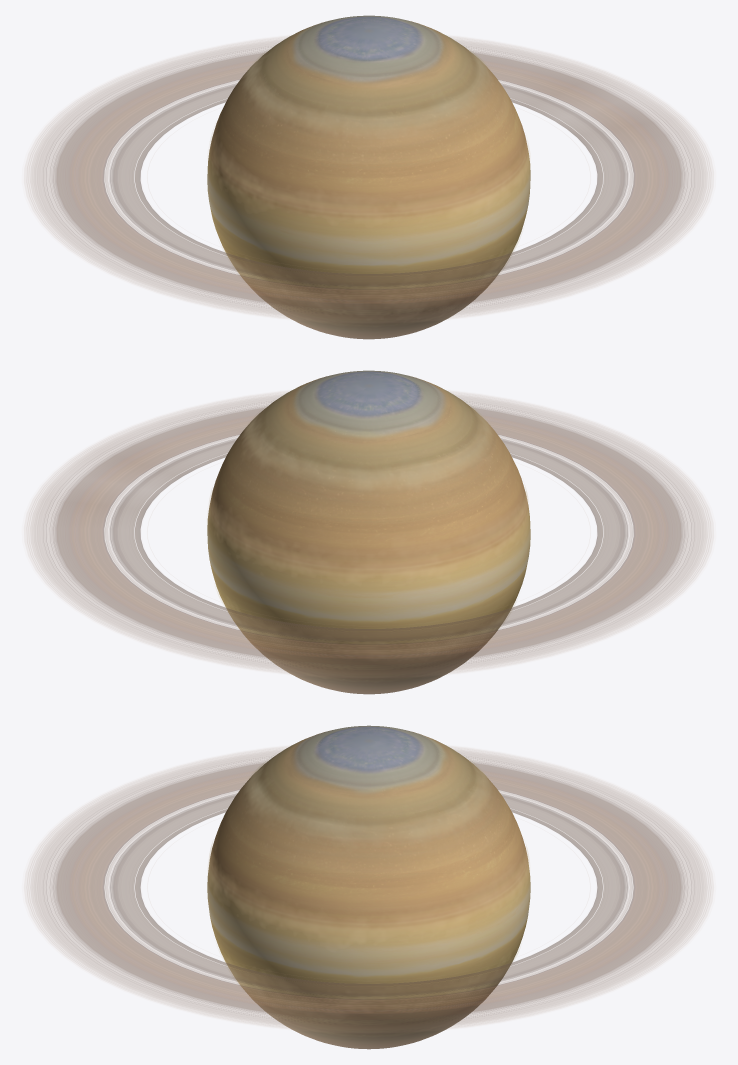
Rendered from Saturn.gltf.
The picture shows the model from 3 angles, top to bottom: view 1: azimuth 30°, elevation 25°; view 2: azimuth 150°, elevation 25°; view 3: azimuth 270°, elevation 25°; orthographic projection.
Parts seen in each view (by area): view 1: Saturn_Globe_Opaque, Rings, Saturn_Clouds; view 2: Saturn_Globe_Opaque, Rings, Saturn_Clouds; view 3: Saturn_Globe_Opaque, Rings, Saturn_Clouds.
Boxes of the visible parts, x1,y1,x2,y2 form: Saturn_Globe_Opaque: (207,15,530,339); Rings: (26,37,711,322); Saturn_Clouds: (210,49,529,308); Saturn_Globe_Opaque: (207,370,530,694); Rings: (26,391,711,677); Saturn_Clouds: (208,405,528,638); Saturn_Globe_Opaque: (207,725,530,1049); Rings: (26,747,711,1032); Saturn_Clouds: (208,758,529,1005).
Bounding box in the file's own units: 43.9 × 20.2 × 43.9.
Materials: 3 (3 with a texture image).
